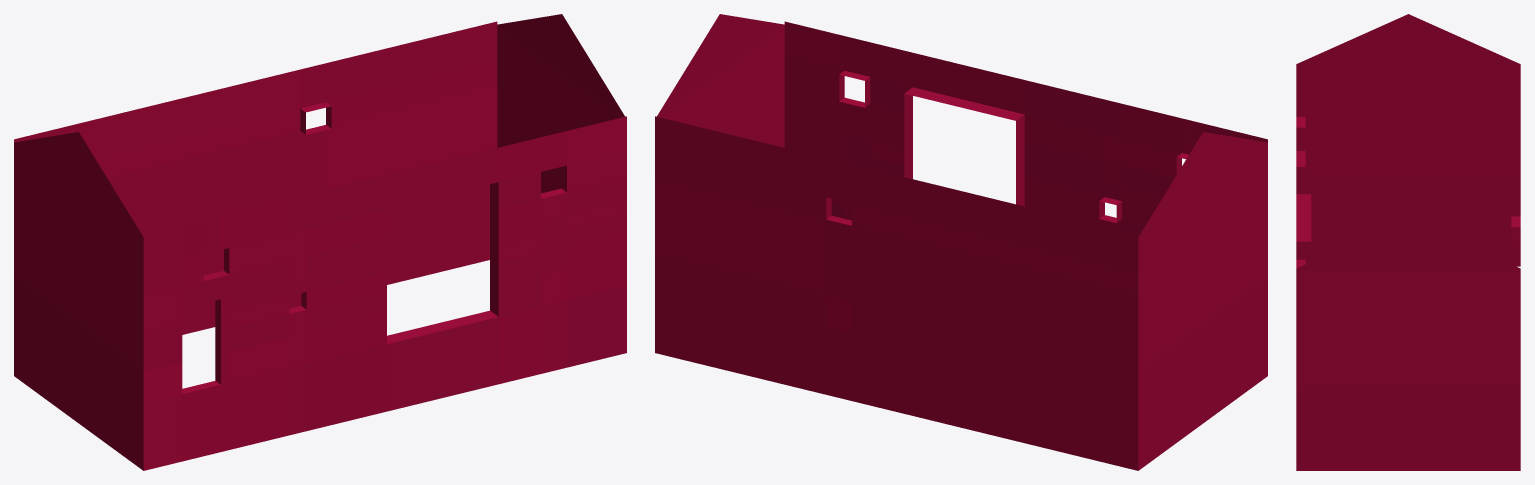
Rendered from SM_Bld_109_Masonry.glb.
3 renders of one model, left to right at view 1: azimuth 30°, elevation 25°; view 2: azimuth 150°, elevation 25°; view 3: azimuth 270°, elevation 25°, orthographic. The views are drawn at different scales.
Visible parts, largest first — view 1: SM_Bld_109_Masonry; view 2: SM_Bld_109_Masonry; view 3: SM_Bld_109_Masonry.
Boxes of the visible parts, box(x1,y1,x2,y2) form: SM_Bld_109_Masonry: box(14, 14, 626, 470); SM_Bld_109_Masonry: box(655, 14, 1267, 470); SM_Bld_109_Masonry: box(1296, 14, 1520, 470).
Bounding box in the file's own units: 11.26 × 6.49 × 5.23.
